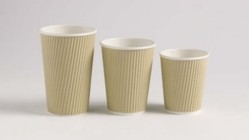cup: (35, 19, 98, 120), (97, 28, 159, 121), (160, 38, 213, 120)
